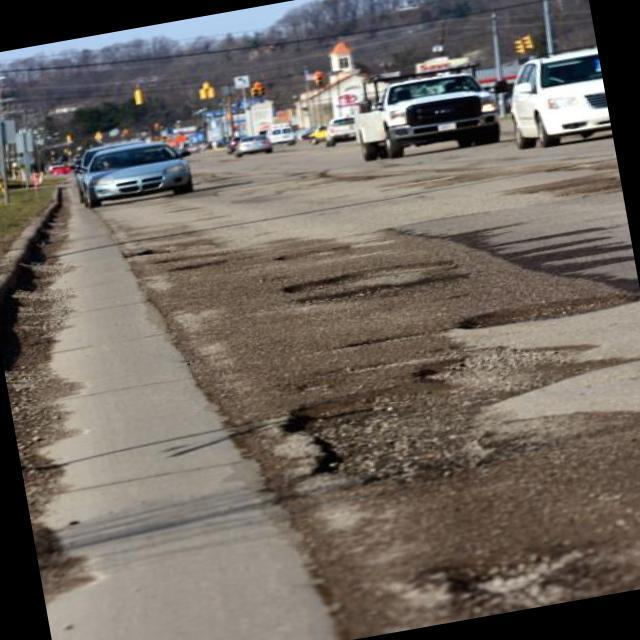Pothole: (234, 325, 620, 505), (405, 523, 616, 628), (276, 240, 496, 330), (423, 269, 640, 339), (161, 250, 248, 284), (266, 237, 336, 263), (126, 245, 184, 258), (168, 250, 208, 264)
